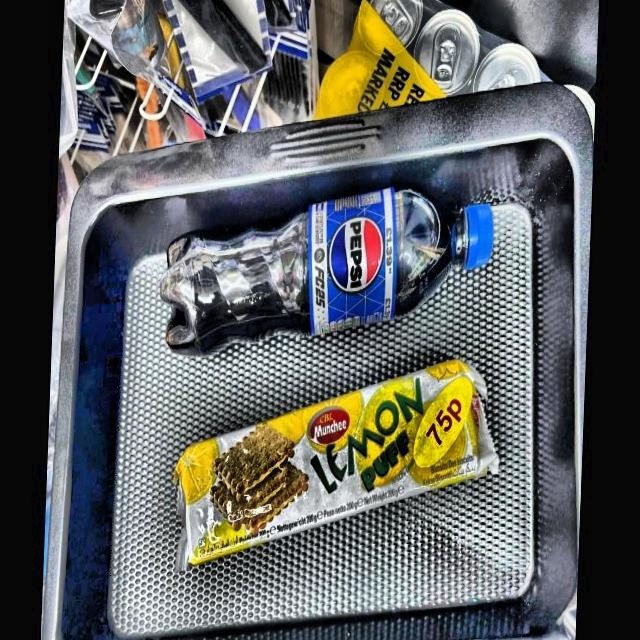lemon puff: (185, 363, 502, 564)
pepsi-bottle: (165, 197, 501, 361)
